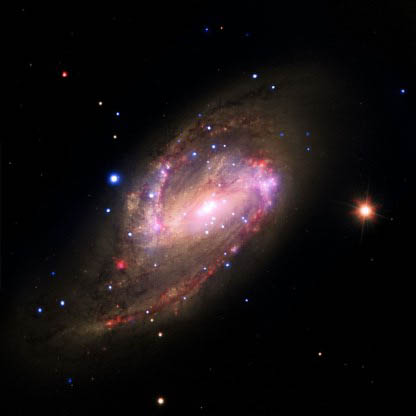Messier 66: (48, 69, 384, 360)
